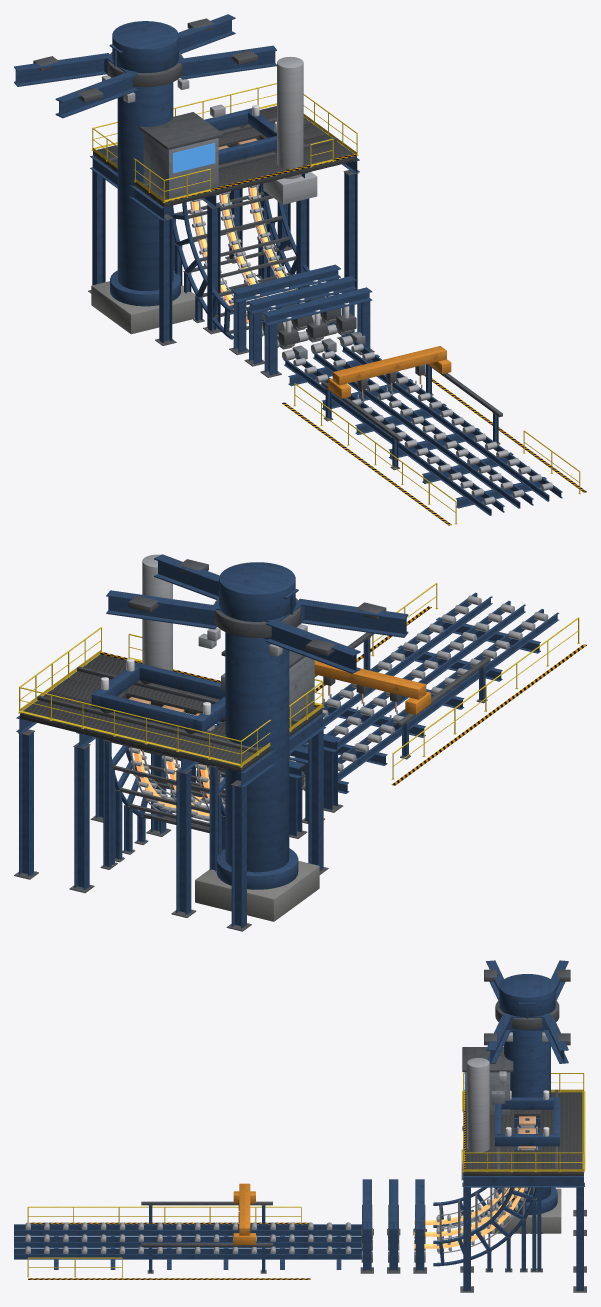
The model's file is ccm.glb.
3 renders of one model, top to bottom at view 1: azimuth 30°, elevation 25°; view 2: azimuth 150°, elevation 25°; view 3: azimuth 270°, elevation 25°, orthographic. The views are drawn at different scales.
Parts seen in each view (by area): view 1: CCM_geo, turret_geo, torchCutter_geo, tundishCar_geo; view 2: CCM_geo, turret_geo, tundishCar_geo, torchCutter_geo; view 3: CCM_geo, turret_geo, tundishCar_geo, torchCutter_geo.
Boxes of the visible parts, x1,y1,x2,y2 form: CCM_geo: (88, 56, 586, 525); turret_geo: (14, 14, 276, 118); torchCutter_geo: (328, 346, 451, 402); tundishCar_geo: (204, 105, 276, 164); CCM_geo: (14, 554, 586, 931); turret_geo: (106, 554, 408, 673); tundishCar_geo: (91, 658, 225, 733); torchCutter_geo: (314, 660, 431, 718); CCM_geo: (14, 1031, 586, 1292); turret_geo: (484, 960, 570, 1082); tundishCar_geo: (491, 1090, 559, 1146); torchCutter_geo: (233, 1183, 255, 1244).
Bounding box in the file's own units: 14.81 × 13.7 × 30.41.
Materials: 15 (11 with a texture image).
